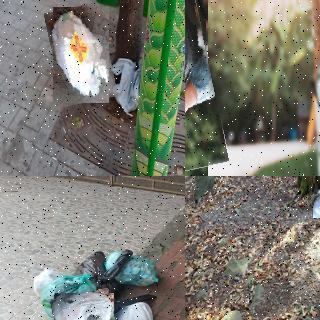Garbage: (49, 5, 114, 105), (185, 0, 219, 176), (43, 275, 102, 317), (105, 251, 160, 288), (51, 290, 116, 320), (32, 268, 66, 294), (113, 300, 157, 320), (312, 193, 320, 218), (316, 187, 320, 207)
